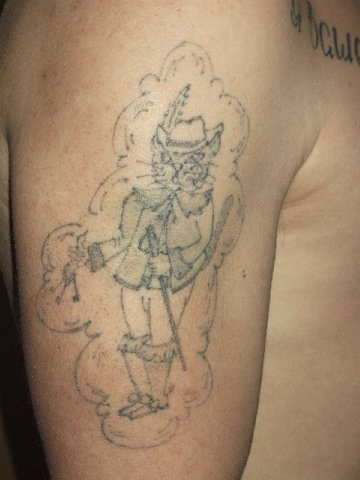tatu8_kot: (41, 34, 253, 449)
